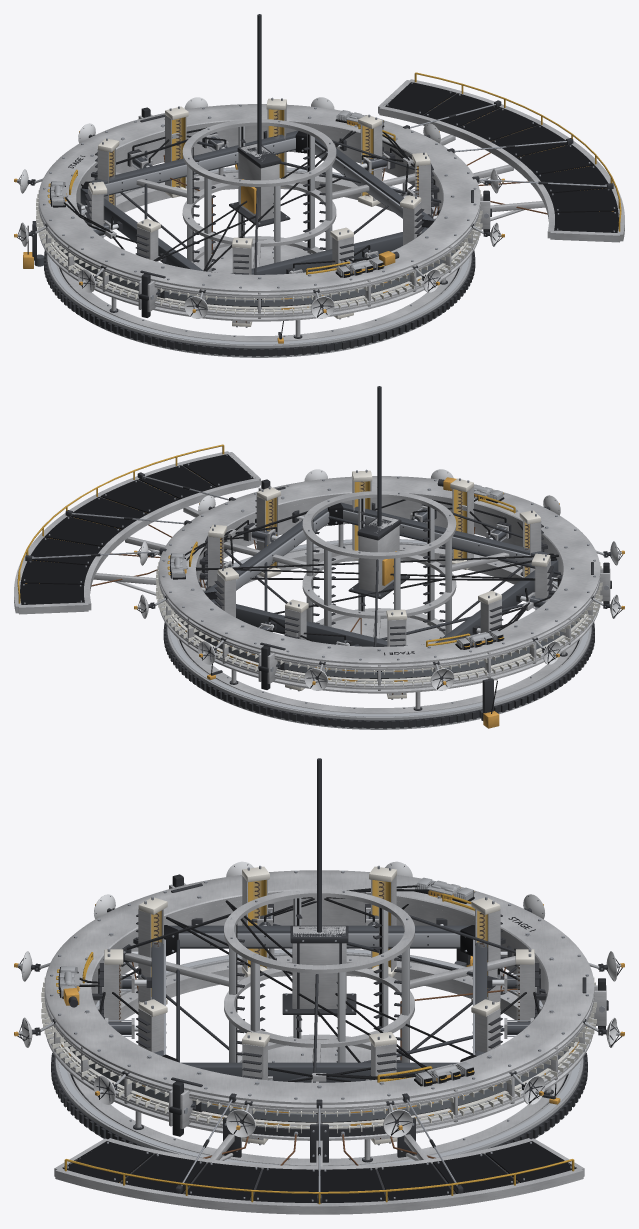
The model's file is pipeline.glb.
The picture shows the model from 3 angles, top to bottom: view 1: azimuth 30°, elevation 25°; view 2: azimuth 150°, elevation 25°; view 3: azimuth 270°, elevation 25°; orthographic projection. The views are drawn at different scales.
Visible parts, largest first — view 1: ring2, fix_deck, fix_comparator, fix_store, fix_press, fix_heaters, ring4, ring1, fix_search, ring0, bar0, ring7 (+4 smaller); view 2: ring2, fix_deck, fix_comparator, fix_store, fix_press, fix_heaters, ring4, ring1, fix_search, ring7, ring0, bar0 (+4 smaller); view 3: ring2, fix_deck, fix_store, fix_comparator, fix_heaters, fix_press, ring4, ring7, fix_search, ring1, bar0, ring0 (+4 smaller).
Part boxes in pixels (left/top/right/bottom): ring2: left=38, top=104, right=490, bottom=321; fix_deck: left=378, top=72, right=624, bottom=242; fix_comparator: left=23, top=164, right=475, bottom=357; fix_store: left=116, top=119, right=415, bottom=274; fix_press: left=76, top=127, right=440, bottom=274; fix_heaters: left=84, top=97, right=439, bottom=327; ring4: left=36, top=114, right=490, bottom=317; ring1: left=38, top=122, right=483, bottom=315; fix_search: left=14, top=97, right=504, bottom=318; ring0: left=38, top=112, right=489, bottom=317; bar0: left=229, top=143, right=290, bottom=227; ring7: left=38, top=127, right=489, bottom=317; ring2: left=158, top=476, right=610, bottom=693; fix_deck: left=14, top=444, right=260, bottom=614; fix_comparator: left=163, top=524, right=594, bottom=729; fix_store: left=223, top=491, right=542, bottom=646; fix_press: left=198, top=499, right=562, bottom=646; fix_heaters: left=199, top=469, right=555, bottom=699; ring4: left=156, top=486, right=609, bottom=689; ring1: left=158, top=495, right=606, bottom=687; fix_search: left=134, top=469, right=624, bottom=690; ring7: left=158, top=486, right=610, bottom=689; ring0: left=160, top=484, right=609, bottom=689; bar0: left=348, top=515, right=409, bottom=599; ring2: left=44, top=870, right=606, bottom=1140; fix_deck: left=54, top=1093, right=584, bottom=1214; fix_store: left=121, top=889, right=519, bottom=1082; fix_comparator: left=51, top=948, right=587, bottom=1166; fix_heaters: left=92, top=865, right=546, bottom=1145; fix_press: left=98, top=897, right=540, bottom=1082; ring4: left=41, top=882, right=605, bottom=1133; ring7: left=44, top=883, right=605, bottom=1136; fix_search: left=14, top=861, right=624, bottom=1137; ring1: left=44, top=892, right=606, bottom=1128; bar0: left=282, top=925, right=356, bottom=1014; ring0: left=56, top=880, right=606, bottom=1121.
Bounding box in the file's own units: 2.8 × 1.42 × 2.25.
Materials: 136 (30 with a texture image).
